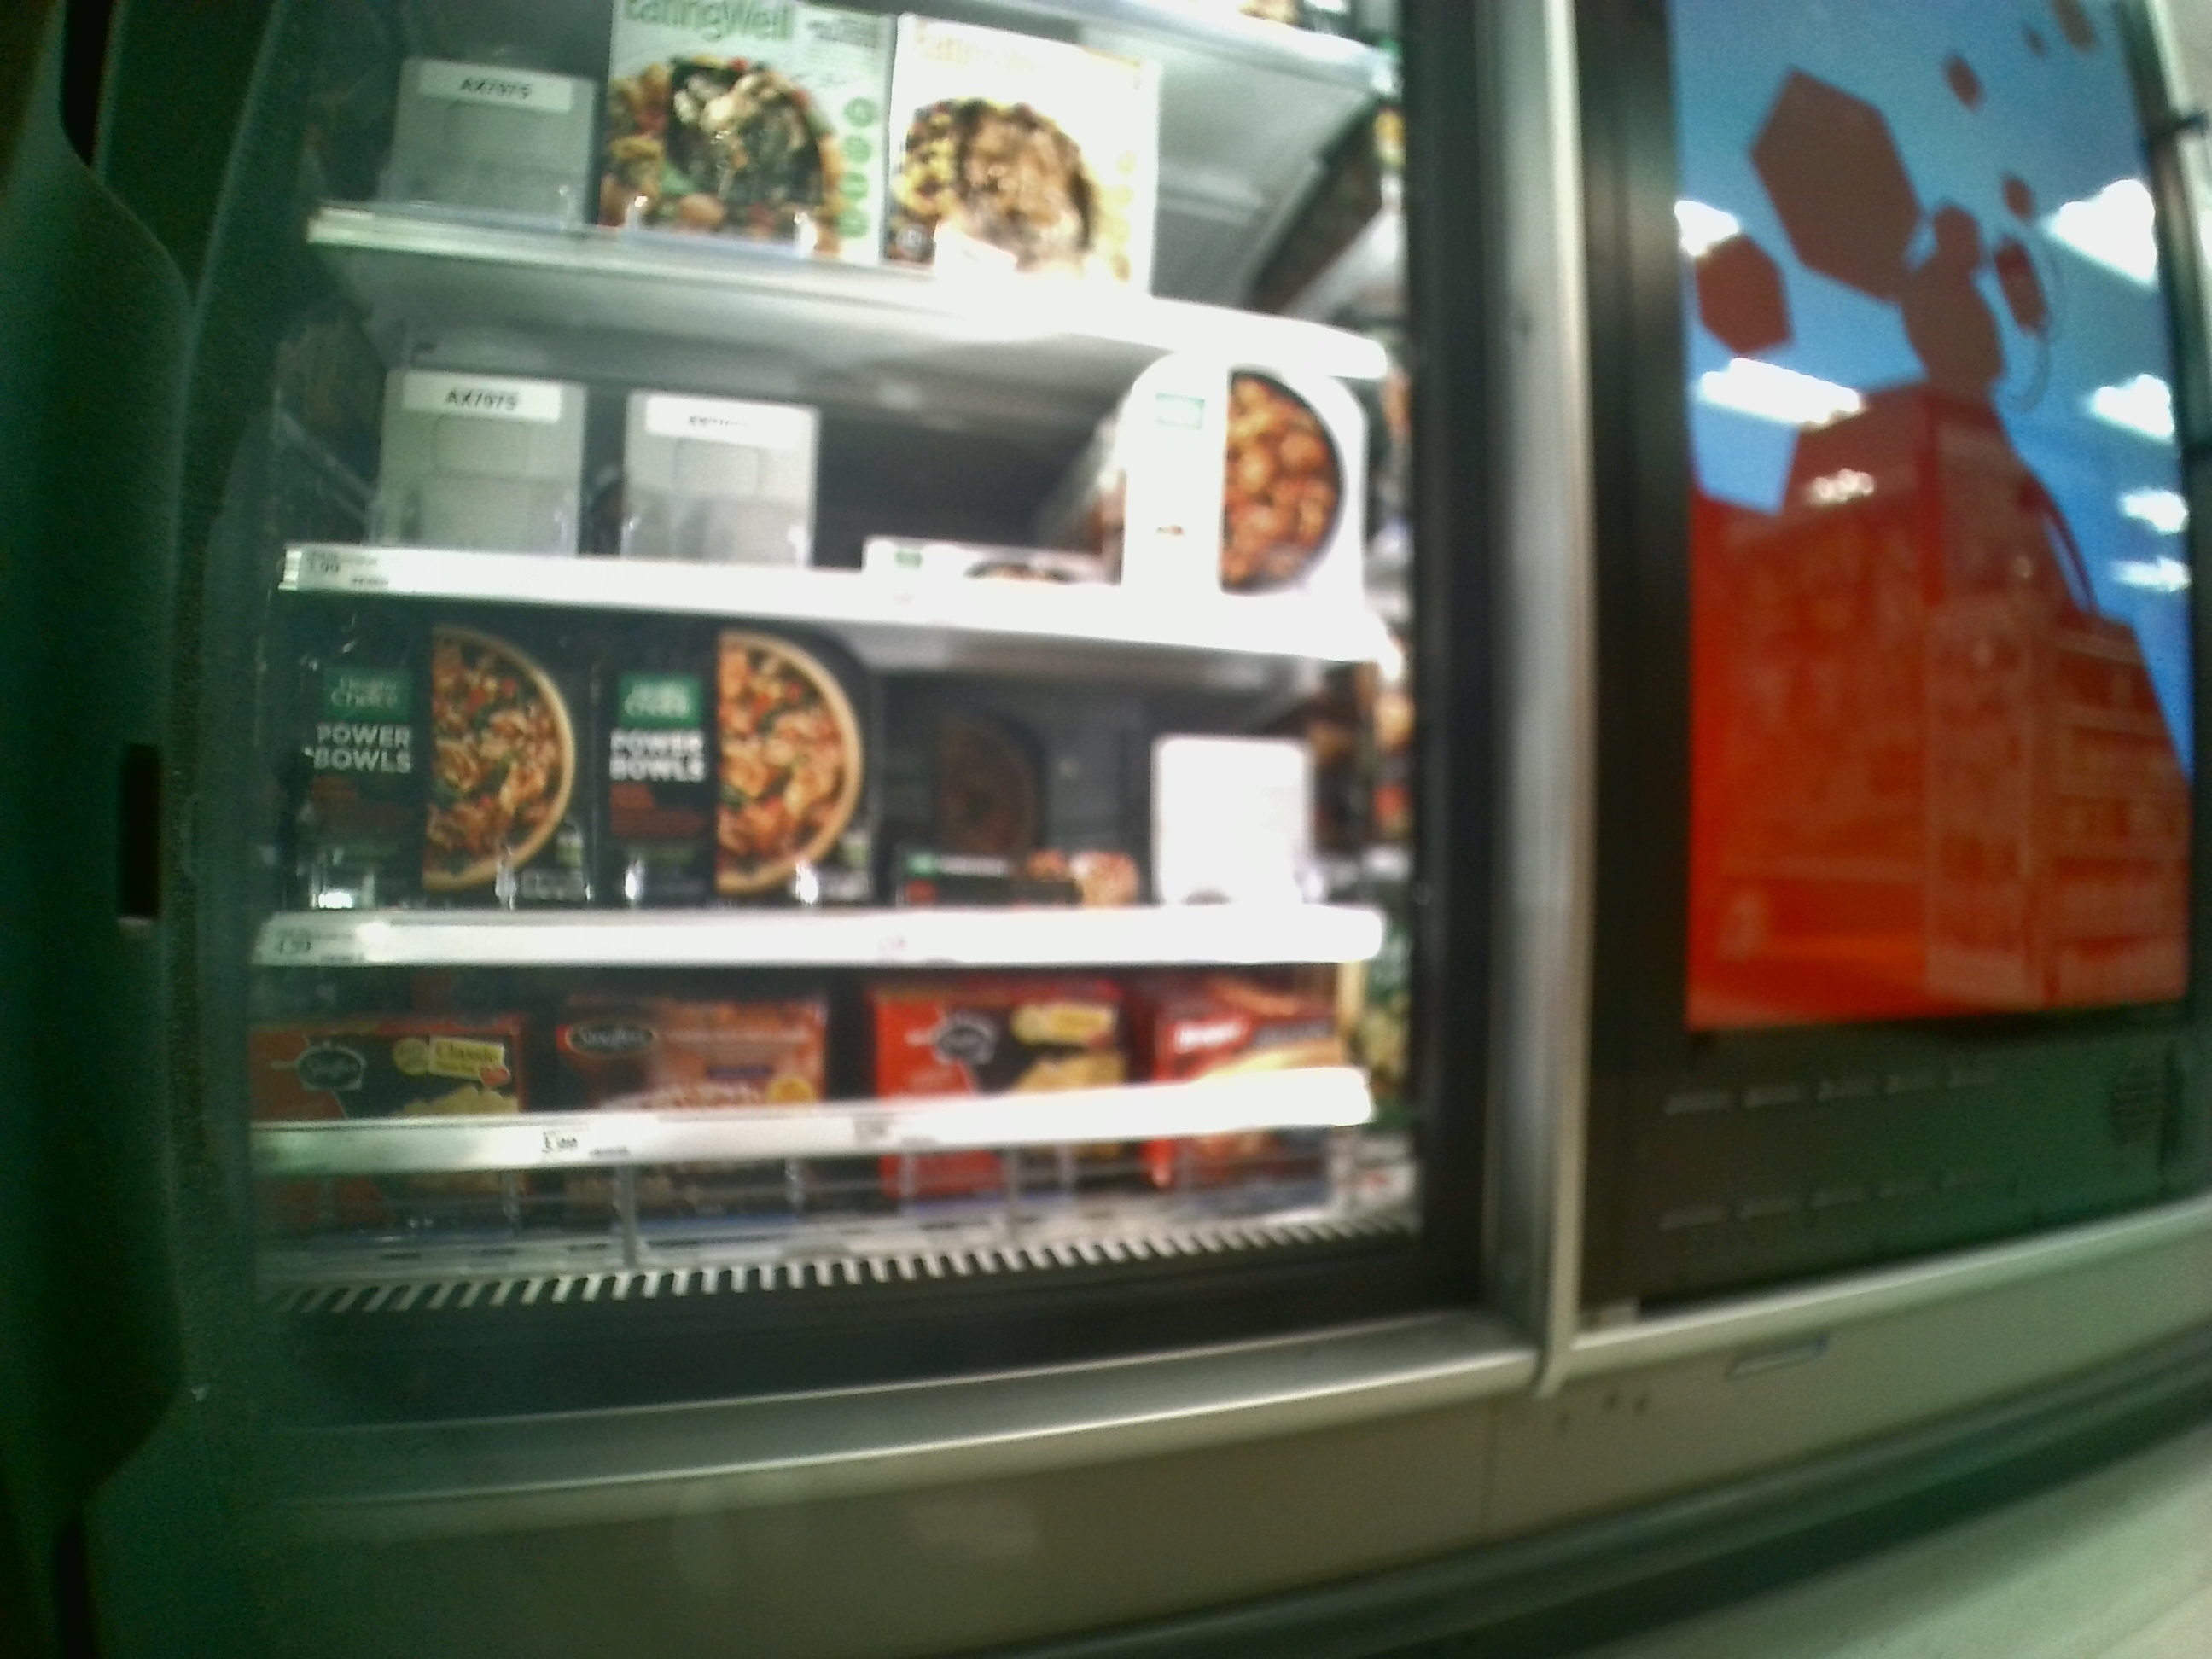shelf: (291, 232, 1411, 648), (249, 967, 1447, 1342), (273, 587, 1428, 969)
